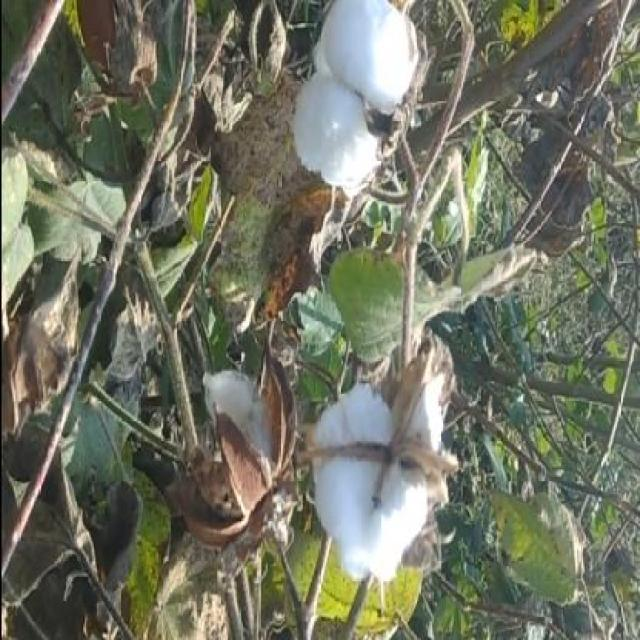cotton_ready: (314, 333, 460, 582), (288, 1, 438, 201)
